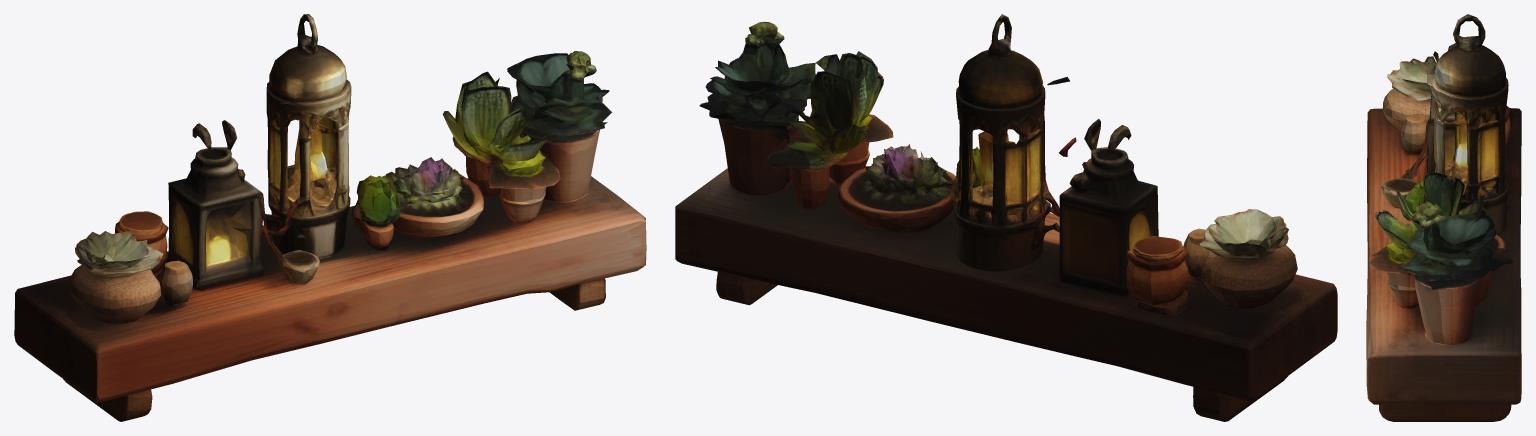
The model's file is wooden-shelf-rustic.jpeg.glb.
3 renders of one model, left to right at view 1: azimuth 30°, elevation 25°; view 2: azimuth 150°, elevation 25°; view 3: azimuth 270°, elevation 25°, orthographic. The views are drawn at different scales.
Parts seen in each view (by area): view 1: world; view 2: world; view 3: world.
Part boxes in pixels (<box>): world: <box>14,14,646,421</box>; world: <box>675,14,1337,421</box>; world: <box>1366,14,1521,421</box>.
Bounding box in the file's own units: 1 × 0.5626 × 0.2651.
Materials: 1 (1 with a texture image).
